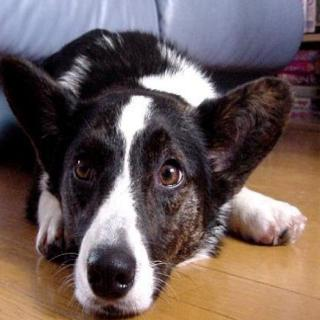dog: (0, 43, 302, 320)
nose: (83, 247, 142, 304)
